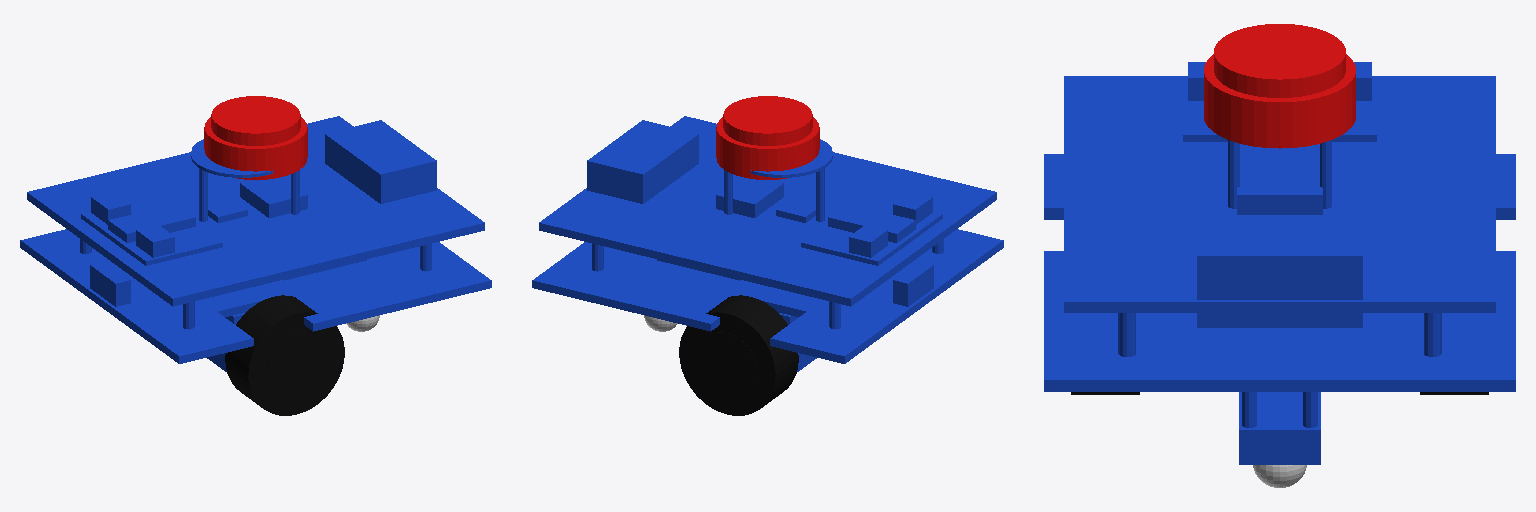
The robot description file, URDF, robot "diff_drive_robot":
<?xml version="1.0"?>
<robot name="diff_drive_robot">

  <!-- ========================================== -->
  <!-- ĐỊNH NGHĨA MÀU SẮC & VẬT LIỆU (RVIZ)       -->
  <!-- ========================================== -->
  <material name="chassis_color"><color rgba="0.15 0.35 0.85 0.9"/></material>
  <material name="wheel_color"><color rgba="0.1 0.1 0.1 1.0"/></material>
  <material name="caster_color"><color rgba="0.85 0.85 0.85 1.0"/></material>
  <material name="lidar_color"><color rgba="0.9 0.1 0.1 1.0"/></material>

  <!-- ========================================== -->
  <!-- 1. CHUẨN ROS REP-105: base_footprint       -->
  <!-- ========================================== -->
  <link name="base_footprint"/>

  <!-- ========================================== -->
  <!-- 2. KHUNG TỌA ĐỘ TRỤC XE: base_link        -->
  <!-- ========================================== -->
  <joint name="base_footprint_joint" type="fixed">
    <parent link="base_footprint"/>
    <child link="base_link"/>
    <origin xyz="0 0 0.0325" rpy="0 0 0"/>
  </joint>

  <link name="base_link">
    <visual>
      <origin xyz="0 0 0" rpy="0 0 0"/>
      <geometry>
        <mesh filename="package://robot_bringup/meshes/chassis.stl"/>
      </geometry>
      <material name="chassis_color"/>
    </visual>
    <collision>
      <origin xyz="0.020 0 0.020" rpy="0 0 0"/>
      <geometry>
        <box size="0.210 0.170 0.022"/>
      </geometry>
    </collision>
    <collision>
      <origin xyz="0.020 0 0.065" rpy="0 0 0"/>
      <geometry>
        <box size="0.210 0.170 0.025"/>
      </geometry>
    </collision>
  </link>

  <!-- ========================================== -->
  <!-- 3. BÁNH CHỦ ĐỘNG TRÁI                     -->
  <!-- ========================================== -->
  <joint name="left_wheel_joint" type="continuous">
    <parent link="base_link"/>
    <child link="left_wheel_link"/>
    <origin xyz="0 0.0685 0" rpy="-1.5707963 0 0"/>
    <axis xyz="0 0 1"/>
  </joint>

  <link name="left_wheel_link">
    <visual>
      <origin xyz="0 0 0" rpy="0 0 0"/>
      <geometry>
        <mesh filename="package://robot_bringup/meshes/wheel.stl"/>
      </geometry>
      <material name="wheel_color"/>
    </visual>
    <collision>
      <origin xyz="0 0 0" rpy="0 0 0"/>
      <geometry>
        <sphere radius="0.0325"/>
      </geometry>
    </collision>
  </link>

  <!-- ========================================== -->
  <!-- 4. BÁNH CHỦ ĐỘNG PHẢI                    -->
  <!-- ========================================== -->
  <joint name="right_wheel_joint" type="continuous">
    <parent link="base_link"/>
    <child link="right_wheel_link"/>
    <origin xyz="0 -0.0685 0" rpy="1.5707963 0 0"/>
    <axis xyz="0 0 -1"/>
  </joint>

  <link name="right_wheel_link">
    <visual>
      <origin xyz="0 0 0" rpy="0 0 0"/>
      <geometry>
        <mesh filename="package://robot_bringup/meshes/wheel.stl"/>
      </geometry>
      <material name="wheel_color"/>
    </visual>
    <collision>
      <origin xyz="0 0 0" rpy="0 0 0"/>
      <geometry>
        <sphere radius="0.0325"/>
      </geometry>
    </collision>
  </link>

  <!-- ========================================== -->
  <!-- 5. BÁNH TỰ DO TRƯỚC (CASTER WHEEL)        -->
  <!-- ========================================== -->
  <joint name="caster_wheel_joint" type="fixed">
    <parent link="base_link"/>
    <child link="caster_wheel_link"/>
    <origin xyz="0.091 0 -0.0215" rpy="0 0 0"/>
  </joint>

  <link name="caster_wheel_link">
    <visual>
      <origin xyz="0 0 0" rpy="0 0 0"/>
      <geometry>
        <mesh filename="package://robot_bringup/meshes/caster_wheel.stl"/>
      </geometry>
      <material name="caster_color"/>
    </visual>
    <collision>
      <origin xyz="0 0 0" rpy="0 0 0"/>
      <geometry>
        <sphere radius="0.011"/>
      </geometry>
    </collision>
  </link>

  <!-- ========================================== -->
  <!-- 6. CẢM BIẾN QUÁN TÍNH MPU6050 (IMU)        -->
  <!-- ========================================== -->
  <joint name="imu_joint" type="fixed">
    <parent link="base_link"/>
    <child link="imu_link"/>
    <origin xyz="0.000 0 0.065" rpy="0 0 0"/>
  </joint>

  <link name="imu_link"/>

  <!-- ========================================== -->
  <!-- 7. CẢM BIẾN LIDAR LD14                     -->
  <!-- ========================================== -->
  <joint name="laser_joint" type="fixed">
    <parent link="base_link"/>
    <child link="laser_frame"/>
    <origin xyz="0.020 0 0.1085" rpy="0 0 0"/>
  </joint>

  <link name="laser_frame">
    <visual>
      <origin xyz="0 0 0" rpy="0 0 0"/>
      <geometry>
        <mesh filename="package://robot_bringup/meshes/lidar.stl"/>
      </geometry>
      <material name="lidar_color"/>
    </visual>
    <collision>
      <origin xyz="0 0 0" rpy="0 0 0"/>
      <geometry>
        <cylinder radius="0.030" length="0.028"/>
      </geometry>
    </collision>
  </link>

</robot>

--- Facts derived from the render (not from the file) ---
3 views of the same robot in one strip: view 1: azimuth 30°, elevation 25°; view 2: azimuth 150°, elevation 25°; view 3: azimuth 270°, elevation 25° (orthographic).
Robot: diff_drive_robot — 7 links, 6 joints (2 continuous, 4 fixed); root link base_footprint; default pose: all joints at 0.
Visible links, largest first — view 1: base_link, right_wheel_link, laser_frame; view 2: base_link, left_wheel_link, laser_frame; view 3: base_link, laser_frame, caster_wheel_link.
Boxes of the visible links, <box> form: base_link: <box>20,116,491,371</box>; right_wheel_link: <box>225,295,344,415</box>; laser_frame: <box>204,96,307,179</box>; base_link: <box>532,116,1003,371</box>; left_wheel_link: <box>679,295,798,415</box>; laser_frame: <box>716,96,819,179</box>; base_link: <box>1044,62,1515,464</box>; laser_frame: <box>1204,24,1355,148</box>; caster_wheel_link: <box>1253,465,1306,487</box>.
Bounding box of the posed robot: 0.21 × 0.185 × 0.155 m (x, y, z).
5 mesh visuals loaded from 4 distinct referenced files (4 binary STL).
